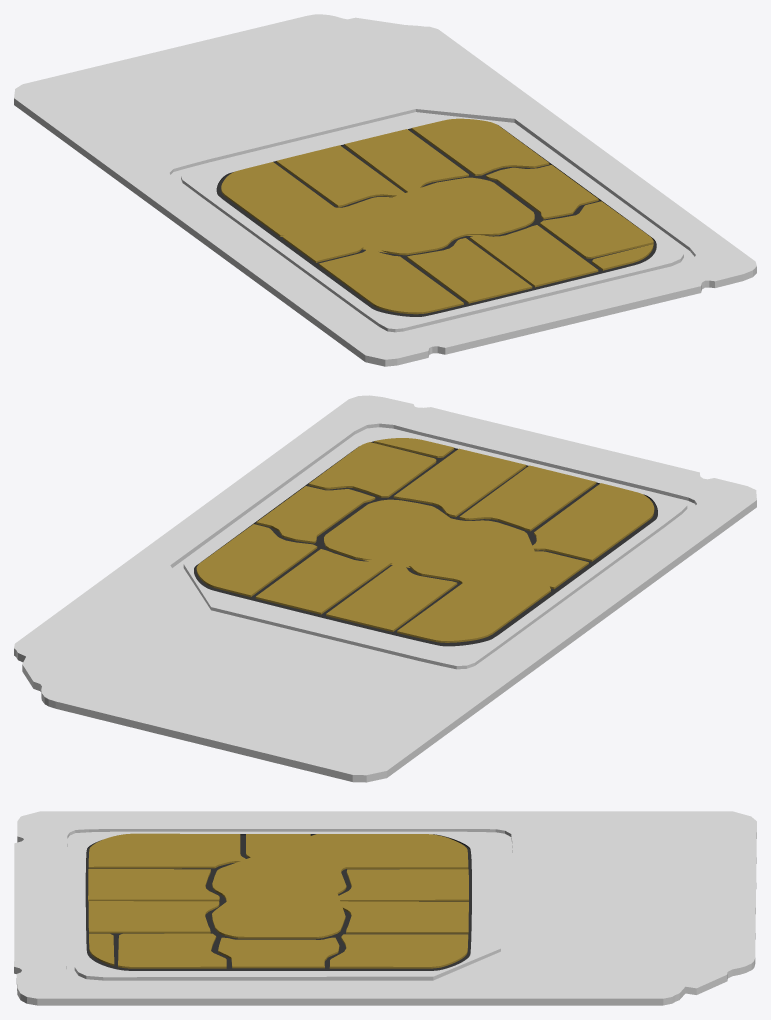
File: tarjetasim.fbx
The picture shows the model from 3 angles, top to bottom: view 1: azimuth 30°, elevation 25°; view 2: azimuth 150°, elevation 25°; view 3: azimuth 270°, elevation 25°; orthographic projection. The views are drawn at different scales.
Visible parts, largest first — view 1: Tarjeta SIM; view 2: Tarjeta SIM; view 3: Tarjeta SIM.
Boxes of the visible parts, x1,y1,x2,y2 form: Tarjeta SIM: (14,14,756,366); Tarjeta SIM: (14,395,756,782); Tarjeta SIM: (14,811,756,1005).
Size of the model in its own units: 12.37 by 0.3713 by 20.74.
